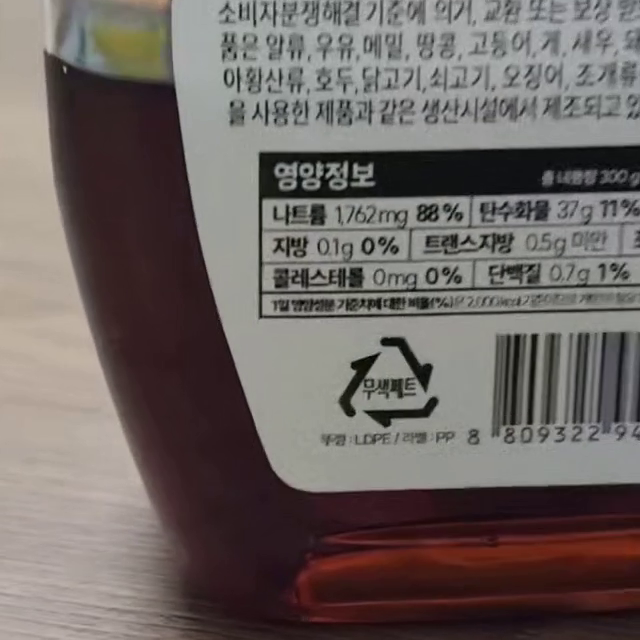ColorlessPet: (335, 339, 440, 429)
